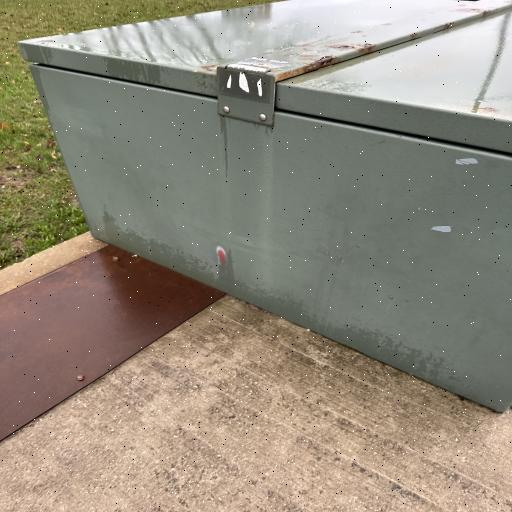Electrical Box: (18, 0, 511, 413)
